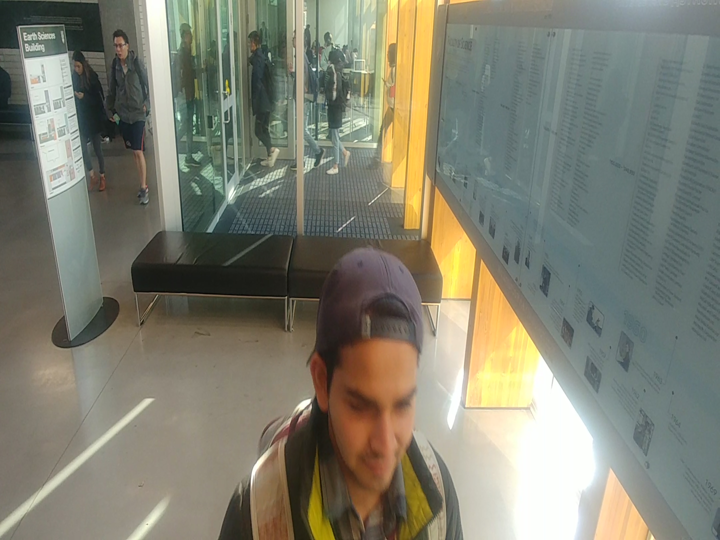face: (300, 241, 436, 501), (107, 25, 134, 65), (68, 45, 91, 81), (241, 24, 266, 57), (325, 46, 351, 77)
human: (202, 240, 477, 540), (105, 23, 159, 211), (65, 45, 115, 200), (242, 28, 289, 171), (169, 16, 205, 176), (321, 42, 357, 177), (367, 38, 400, 179)
